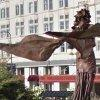Statue: (55, 2, 100, 100)
